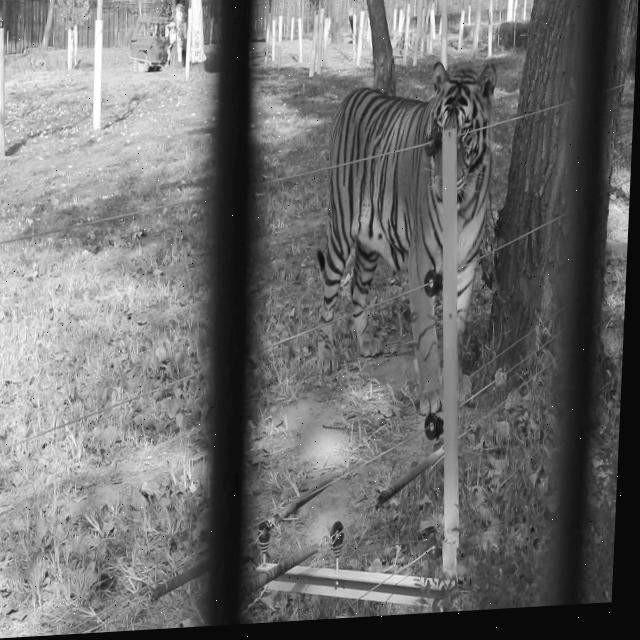Tiger: (309, 57, 498, 423)
